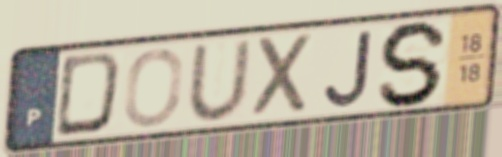D: (51, 49, 125, 141)
J: (322, 27, 376, 110)
O: (120, 46, 187, 130)
S: (375, 18, 453, 109)
U: (185, 36, 255, 124)
X: (250, 29, 318, 122)
